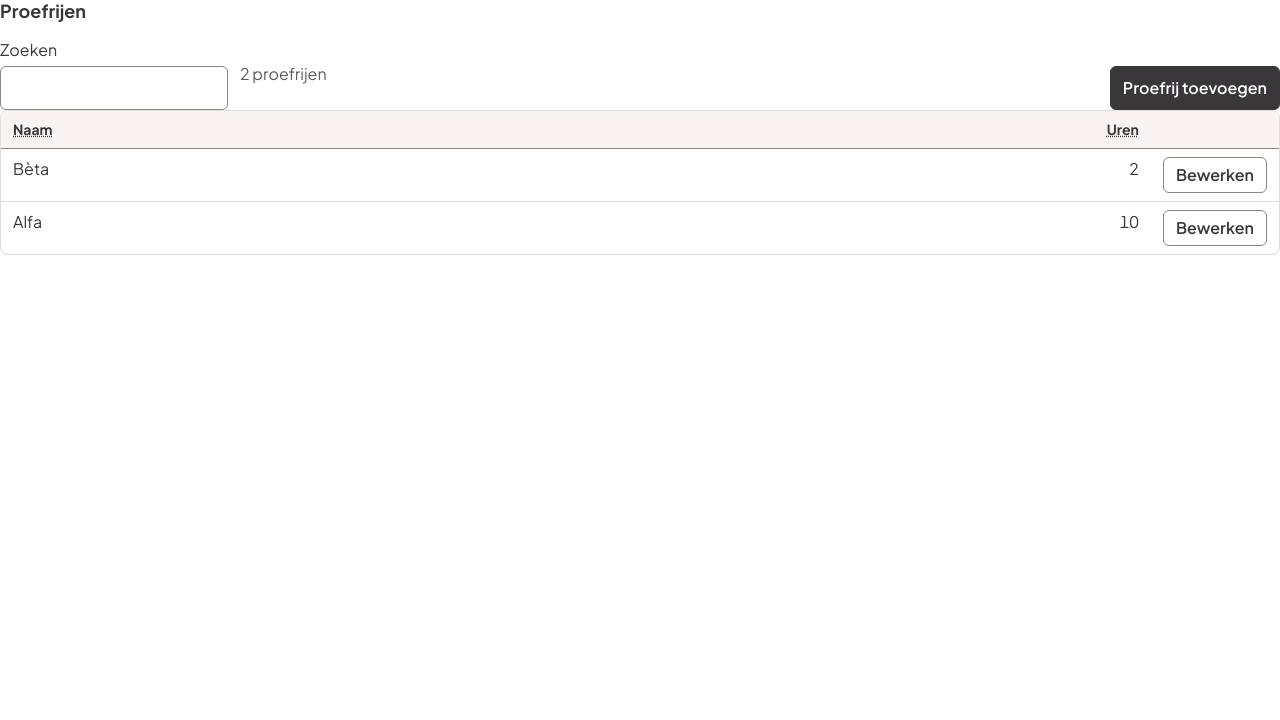
Test: BeheerScherm: zijpaneel › sluiten met wijzigingen vraagt eerst of ze weg mogen
This screenshot has width=1280, height=720.
Expected: the text "Alfa" is shown, [1,201,611,254]
Click the button with aria-label "Bewerken: Alfa" at (1215, 228), box [1163,210,1267,246]
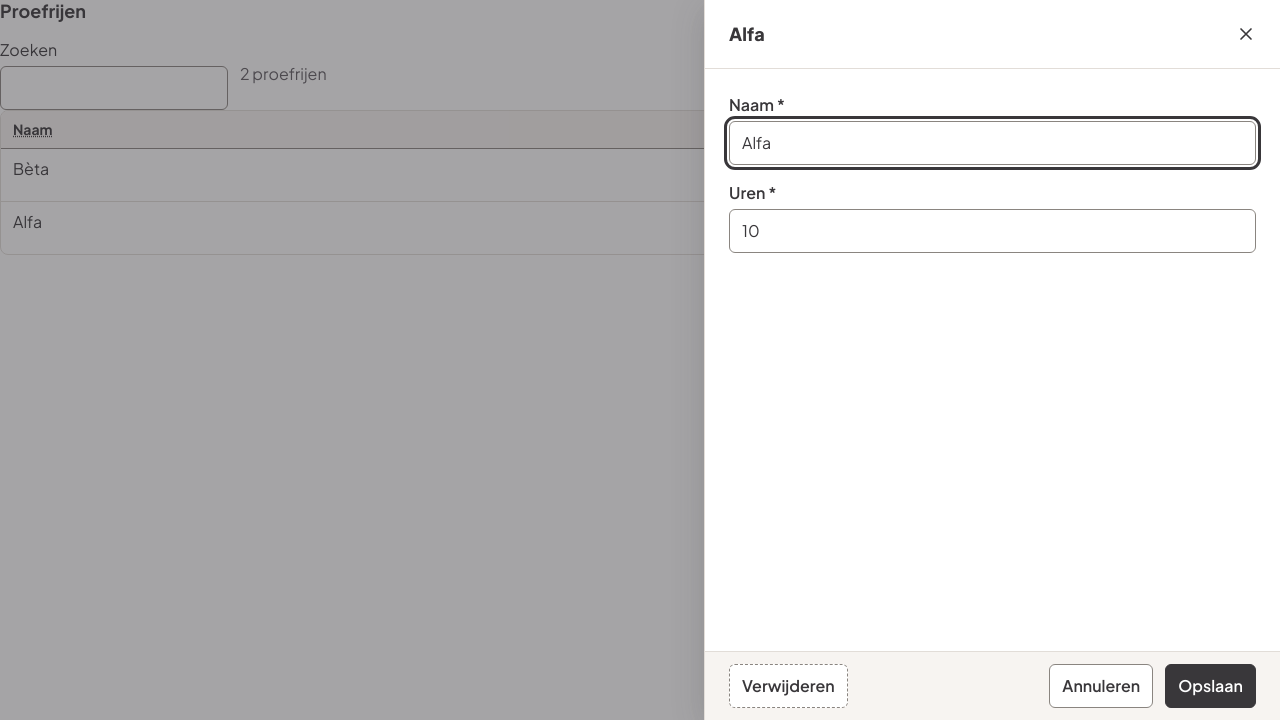
Replace the text in the field labelled "Naam *" with "Alfa 2" at (992, 143), box [729,121,1256,165]
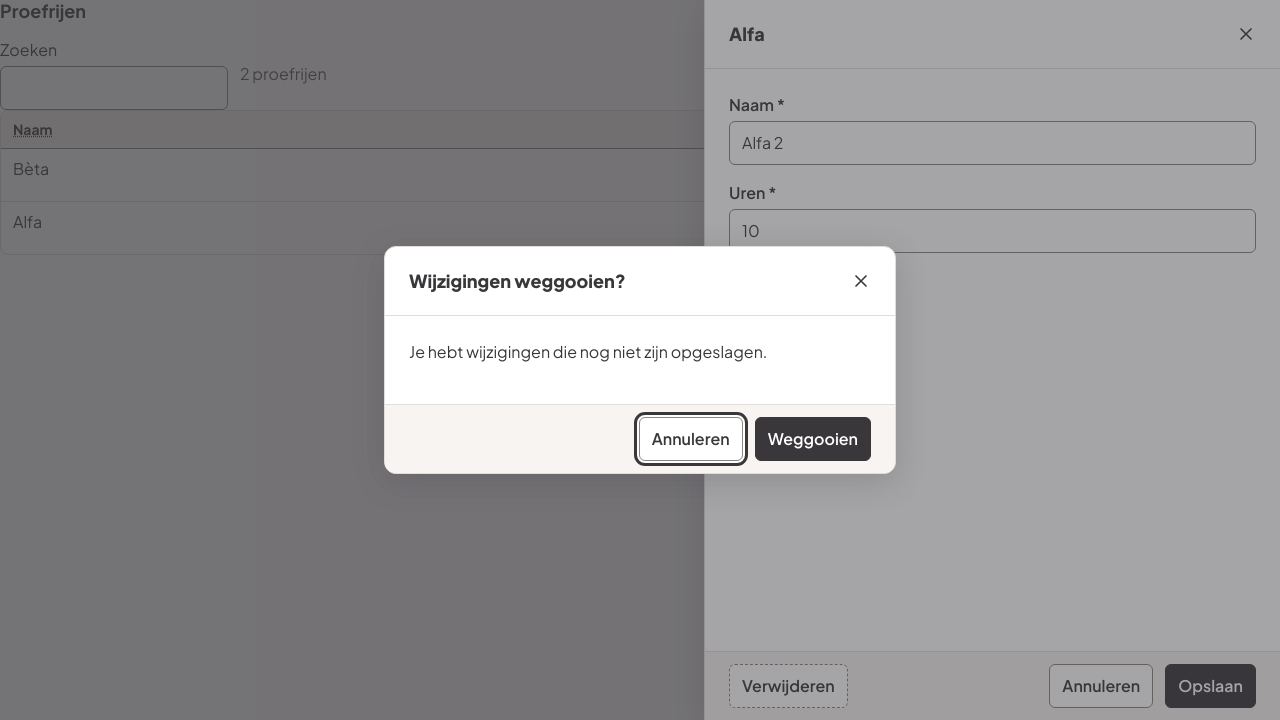
Click the button "Annuleren" at (691, 439), box [639,417,743,461]
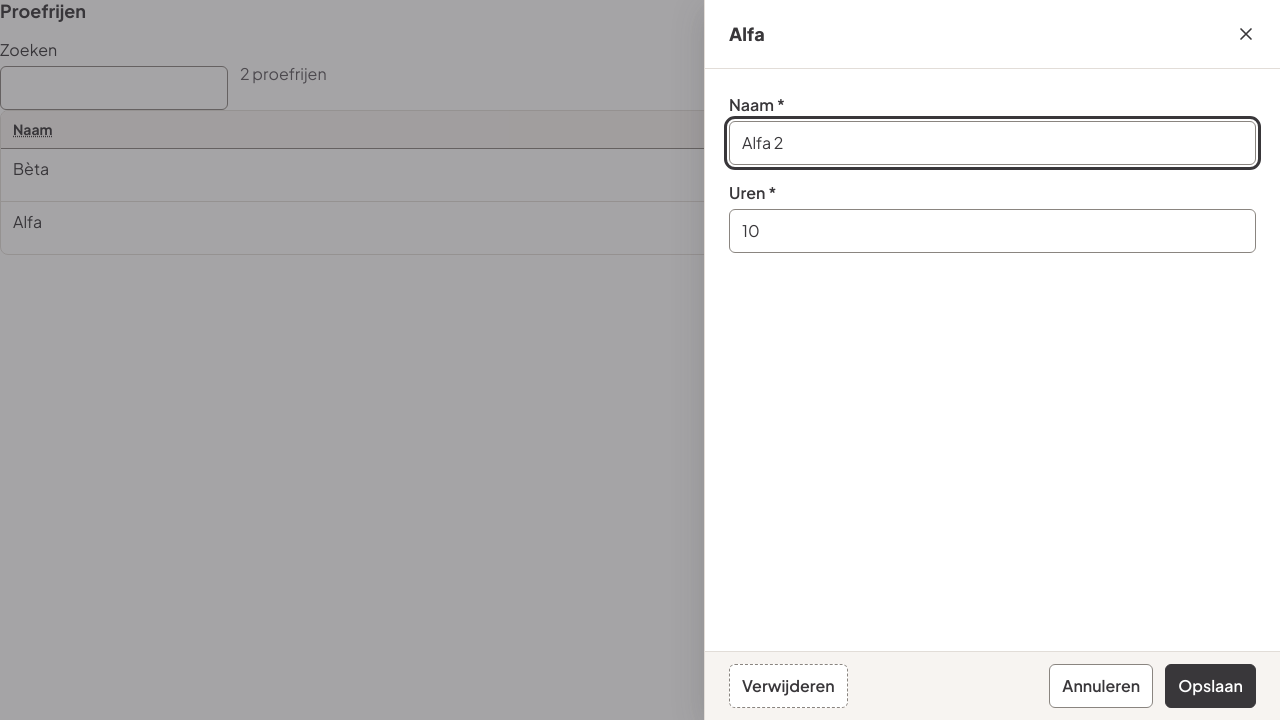
Click the button "Annuleren" at (1101, 686), box [1049,664,1153,708]
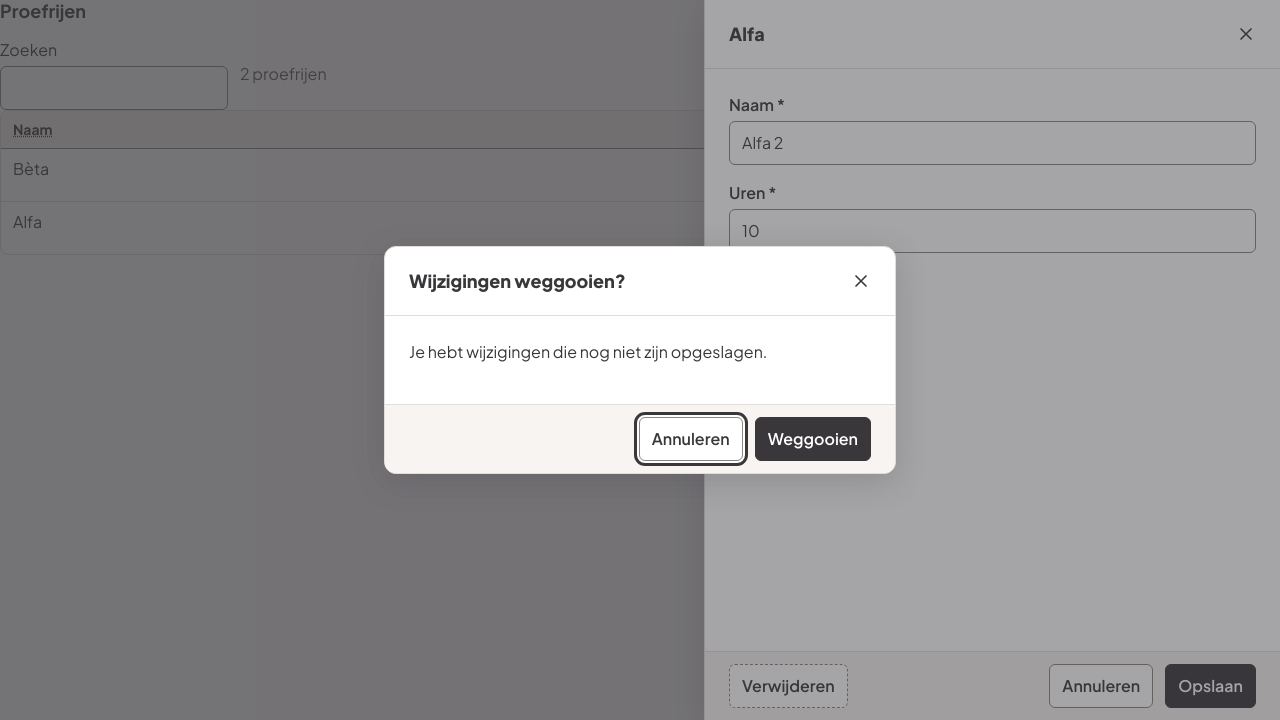
Click the button "Weggooien" at (813, 439), box [755,417,871,461]
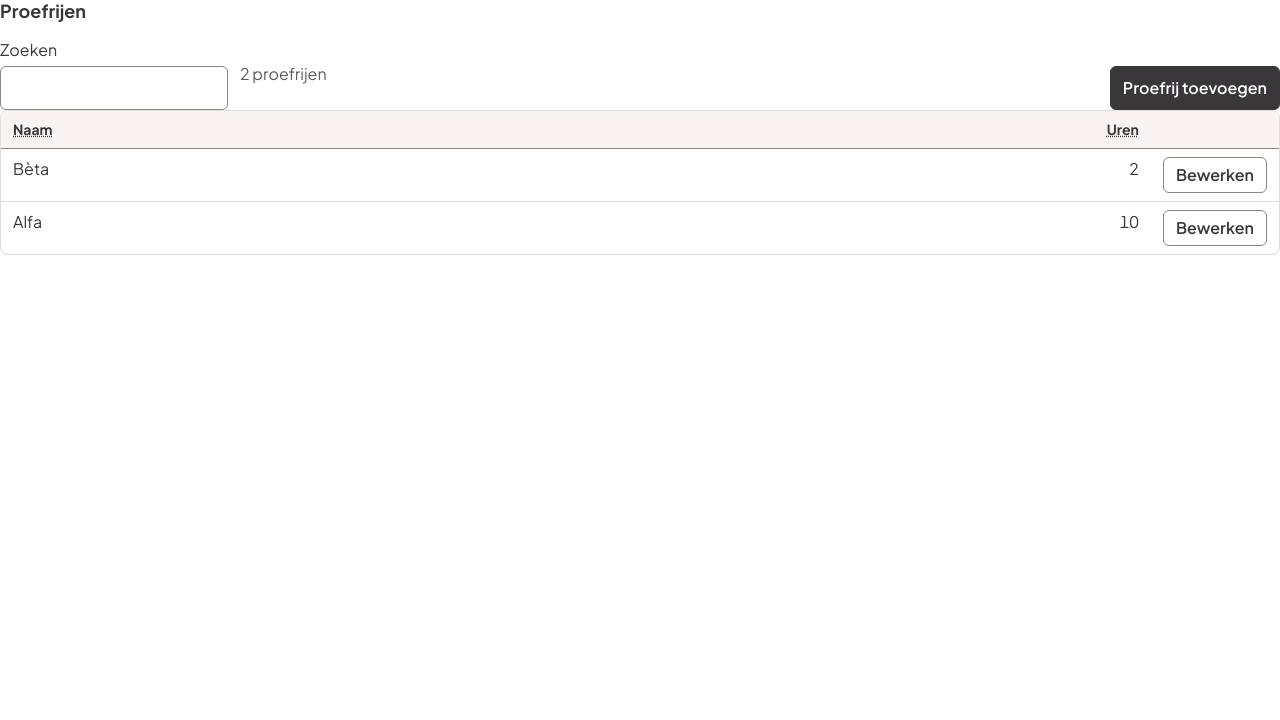
Result: the dialog is gone
